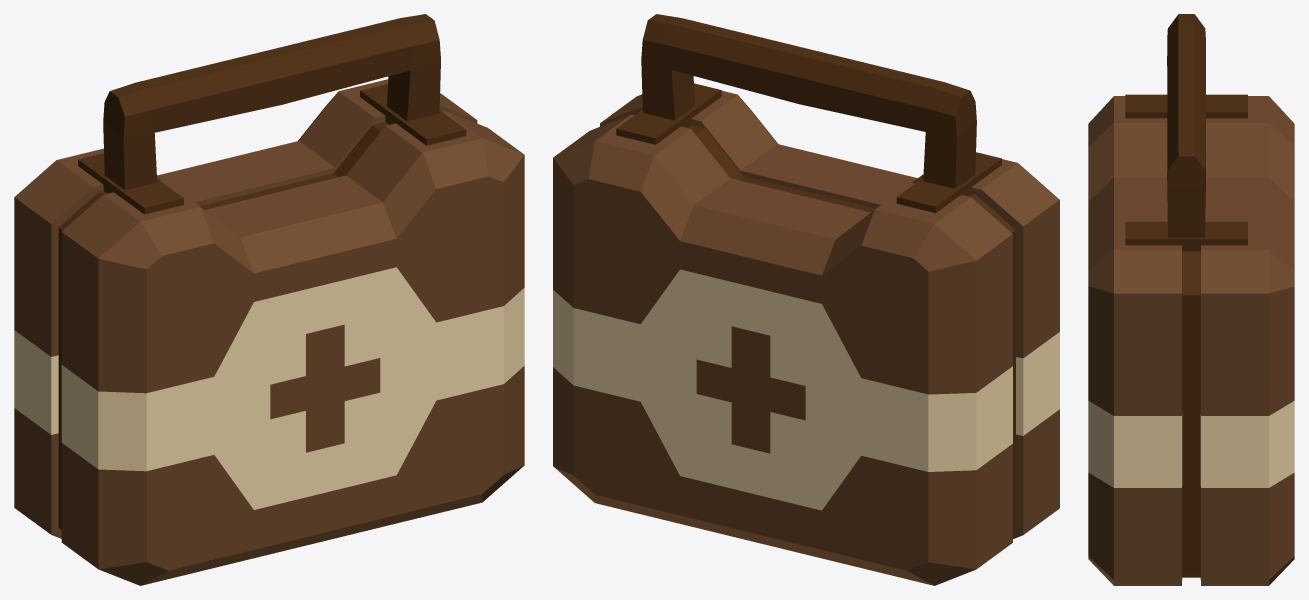
File: quaternius-ultimate-space-pickup-health-transformed.glb
3 renders of one model, left to right at view 1: azimuth 30°, elevation 25°; view 2: azimuth 150°, elevation 25°; view 3: azimuth 270°, elevation 25°, orthographic. The views are drawn at different scales.
Visible parts, largest first — view 1: Pickup_Health; view 2: Pickup_Health; view 3: Pickup_Health.
Boxes of the visible parts, left/top/right/bottom form: Pickup_Health: left=14, top=14, right=524, bottom=585; Pickup_Health: left=553, top=14, right=1059, bottom=585; Pickup_Health: left=1088, top=14, right=1294, bottom=585.
Size of the model in its own units: 0.9694 by 1 by 0.4401.
Materials: 1 (1 with a texture image).
